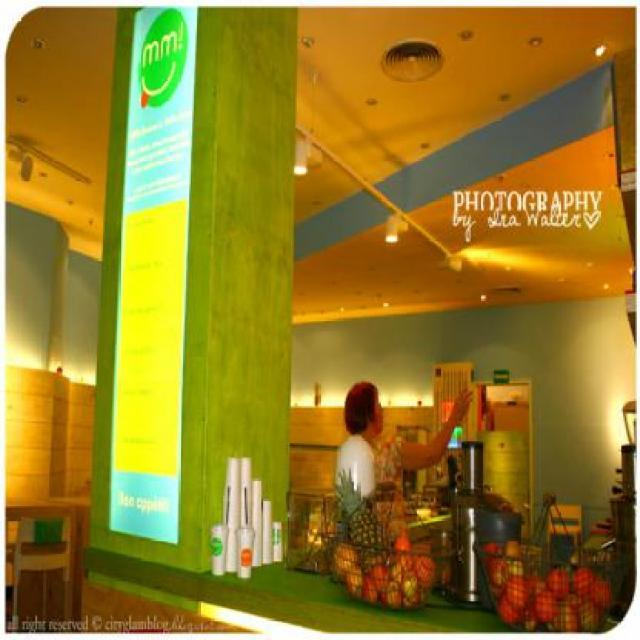Pineapple: (330, 464, 395, 572)
